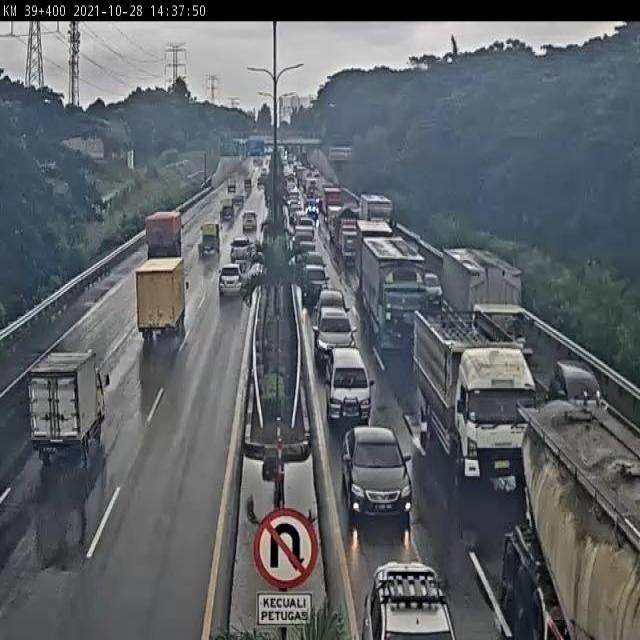Car: (359, 558, 456, 640), (340, 424, 412, 526), (547, 356, 608, 416), (311, 305, 358, 369), (300, 264, 331, 307), (312, 287, 350, 321), (217, 263, 244, 298), (423, 268, 443, 307), (229, 235, 254, 264), (298, 251, 327, 274), (296, 240, 317, 257), (242, 211, 257, 232), (304, 200, 318, 216), (232, 193, 244, 209), (244, 177, 252, 191), (256, 176, 265, 188)
Truck: (496, 390, 639, 640), (412, 314, 535, 510), (441, 248, 534, 360), (26, 348, 110, 466), (359, 234, 429, 349), (133, 256, 190, 342), (354, 218, 394, 278), (143, 209, 186, 258), (358, 190, 397, 231), (334, 206, 360, 267), (197, 222, 223, 257), (321, 186, 344, 220), (342, 230, 359, 268), (326, 206, 344, 240), (219, 197, 235, 221), (226, 176, 238, 192)
Van: (322, 346, 372, 427)
